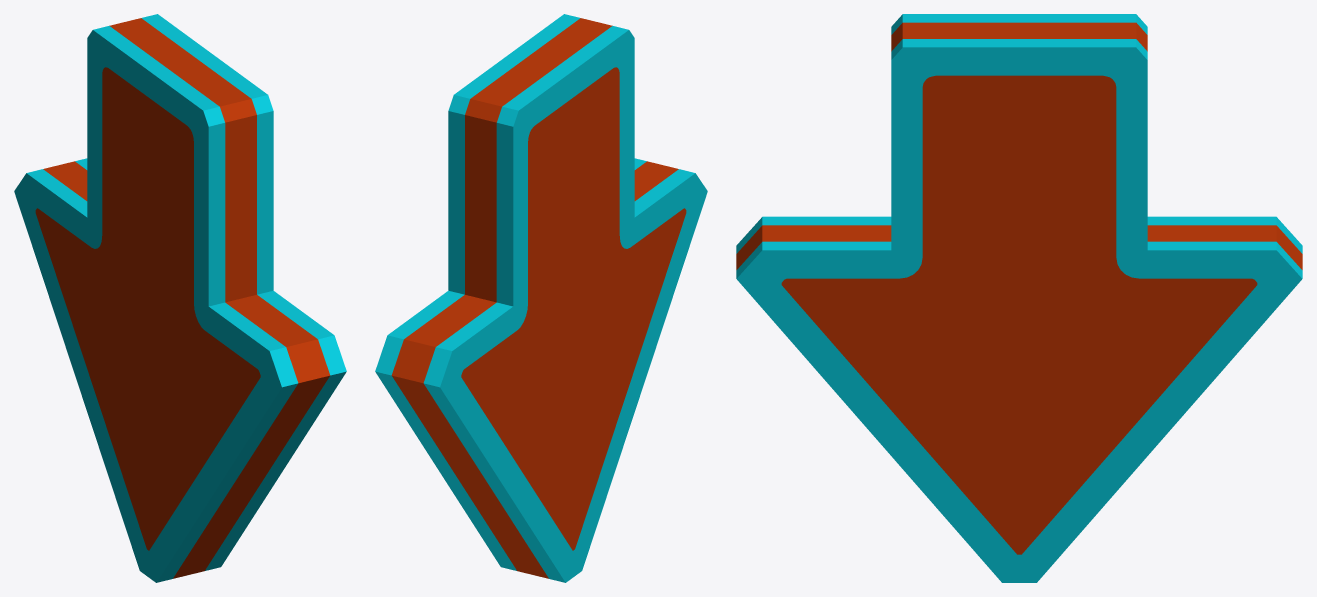
File: questeffects_arrowmarker.fbx
The picture shows the model from 3 angles, left to right: view 1: azimuth 30°, elevation 25°; view 2: azimuth 150°, elevation 25°; view 3: azimuth 270°, elevation 25°; orthographic projection. The views are drawn at different scales.
Visible parts, largest first — view 1: questeffects_arrowmarker; view 2: questeffects_arrowmarker; view 3: questeffects_arrowmarker.
Boxes of the visible parts, x1,y1,x2,y2 form: questeffects_arrowmarker: (14,14,346,582); questeffects_arrowmarker: (375,14,707,582); questeffects_arrowmarker: (736,14,1302,582).
Size of the model in its own units: 1.06 by 7.9 by 7.56.
